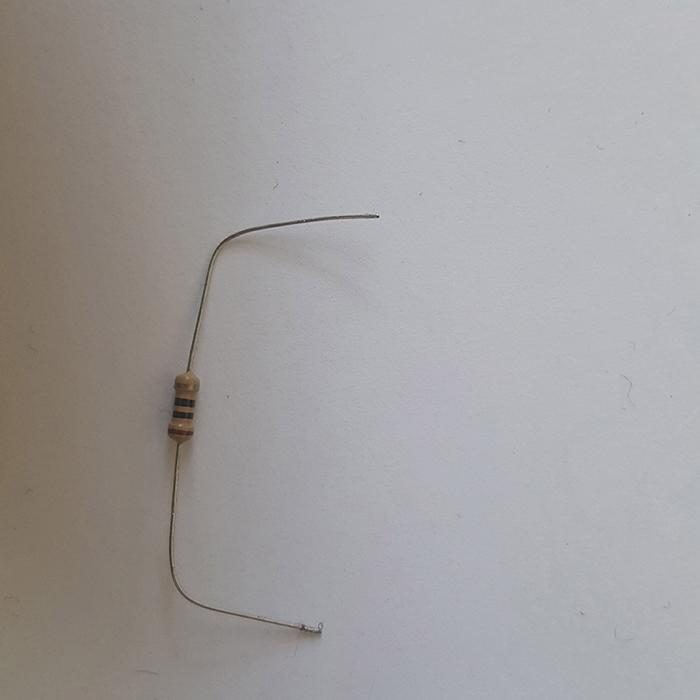resistor: (167, 370, 199, 445)
